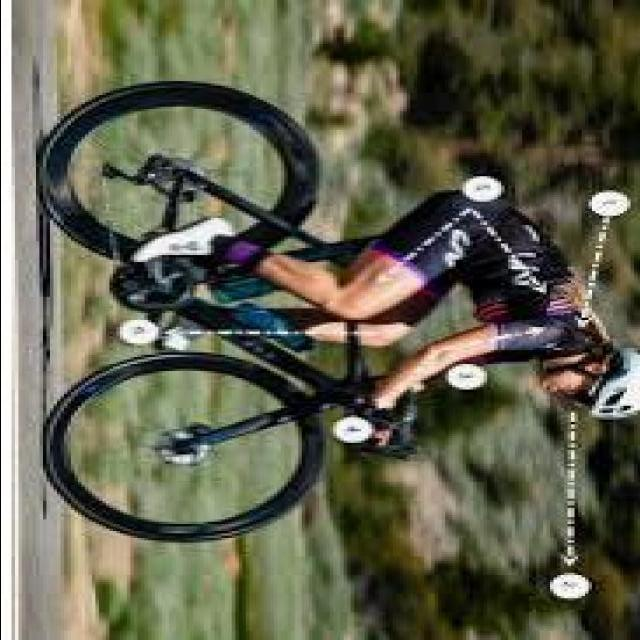bicycle: (22, 89, 456, 543)
